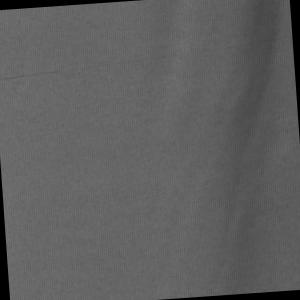Wrinkle: (107, 1, 300, 300)
